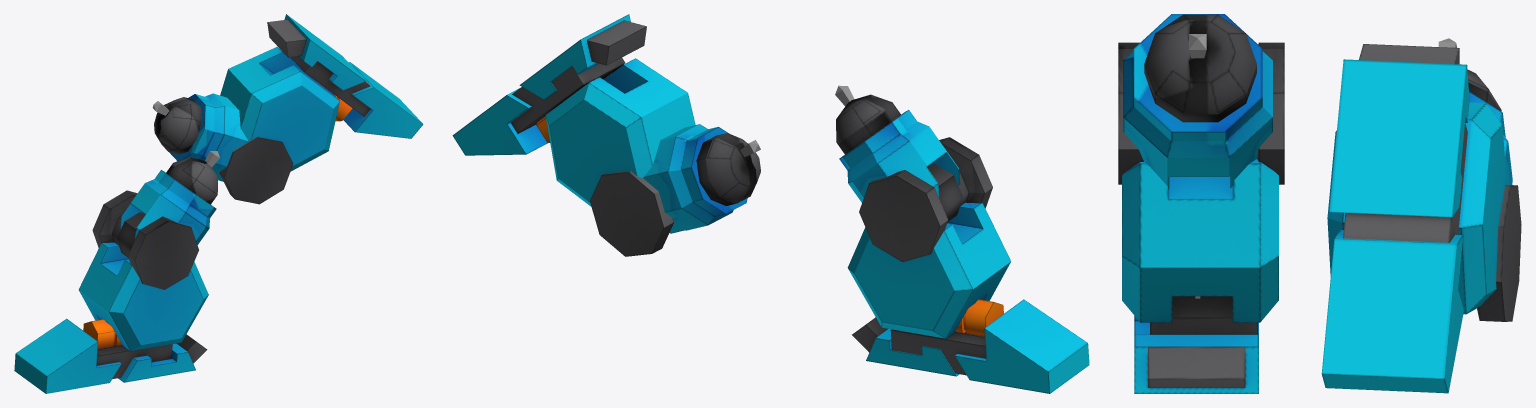
Rendered from Bottom_Running18.obj.
3 views of the same model, side by side, from view 1: azimuth 30°, elevation 25°; view 2: azimuth 150°, elevation 25°; view 3: azimuth 270°, elevation 25° (orthographic). The views are drawn at different scales.
Visible parts, largest first — view 1: Object013, Object010, Object014, Object011, Object009, Object012; view 2: Object013, Object010, Object014, Object011, Object009, Object012; view 3: Object011, Object013, Object012, Object010, Object014, Object009, Bone023.
Boxes of the visible parts, bbox=[...] form: Object013: bbox=[78, 190, 208, 351]; Object010: bbox=[219, 47, 339, 204]; Object014: bbox=[14, 318, 207, 393]; Object011: bbox=[267, 14, 423, 138]; Object009: bbox=[154, 93, 248, 181]; Object012: bbox=[120, 156, 217, 244]; Object013: bbox=[847, 137, 1010, 338]; Object010: bbox=[545, 58, 695, 256]; Object014: bbox=[852, 299, 1089, 393]; Object011: bbox=[452, 14, 646, 155]; Object009: bbox=[643, 124, 760, 233]; Object012: bbox=[836, 94, 960, 202]; Object011: bbox=[1321, 44, 1469, 393]; Object013: bbox=[1118, 42, 1284, 322]; Object012: bbox=[1123, 14, 1272, 189]; Object010: bbox=[1327, 102, 1521, 321]; Object014: bbox=[1134, 296, 1258, 393]; Object009: bbox=[1467, 69, 1512, 184]; Bone023: bbox=[1189, 34, 1206, 58].
Bounding box in the file's own units: 223 × 125 × 91.58.
